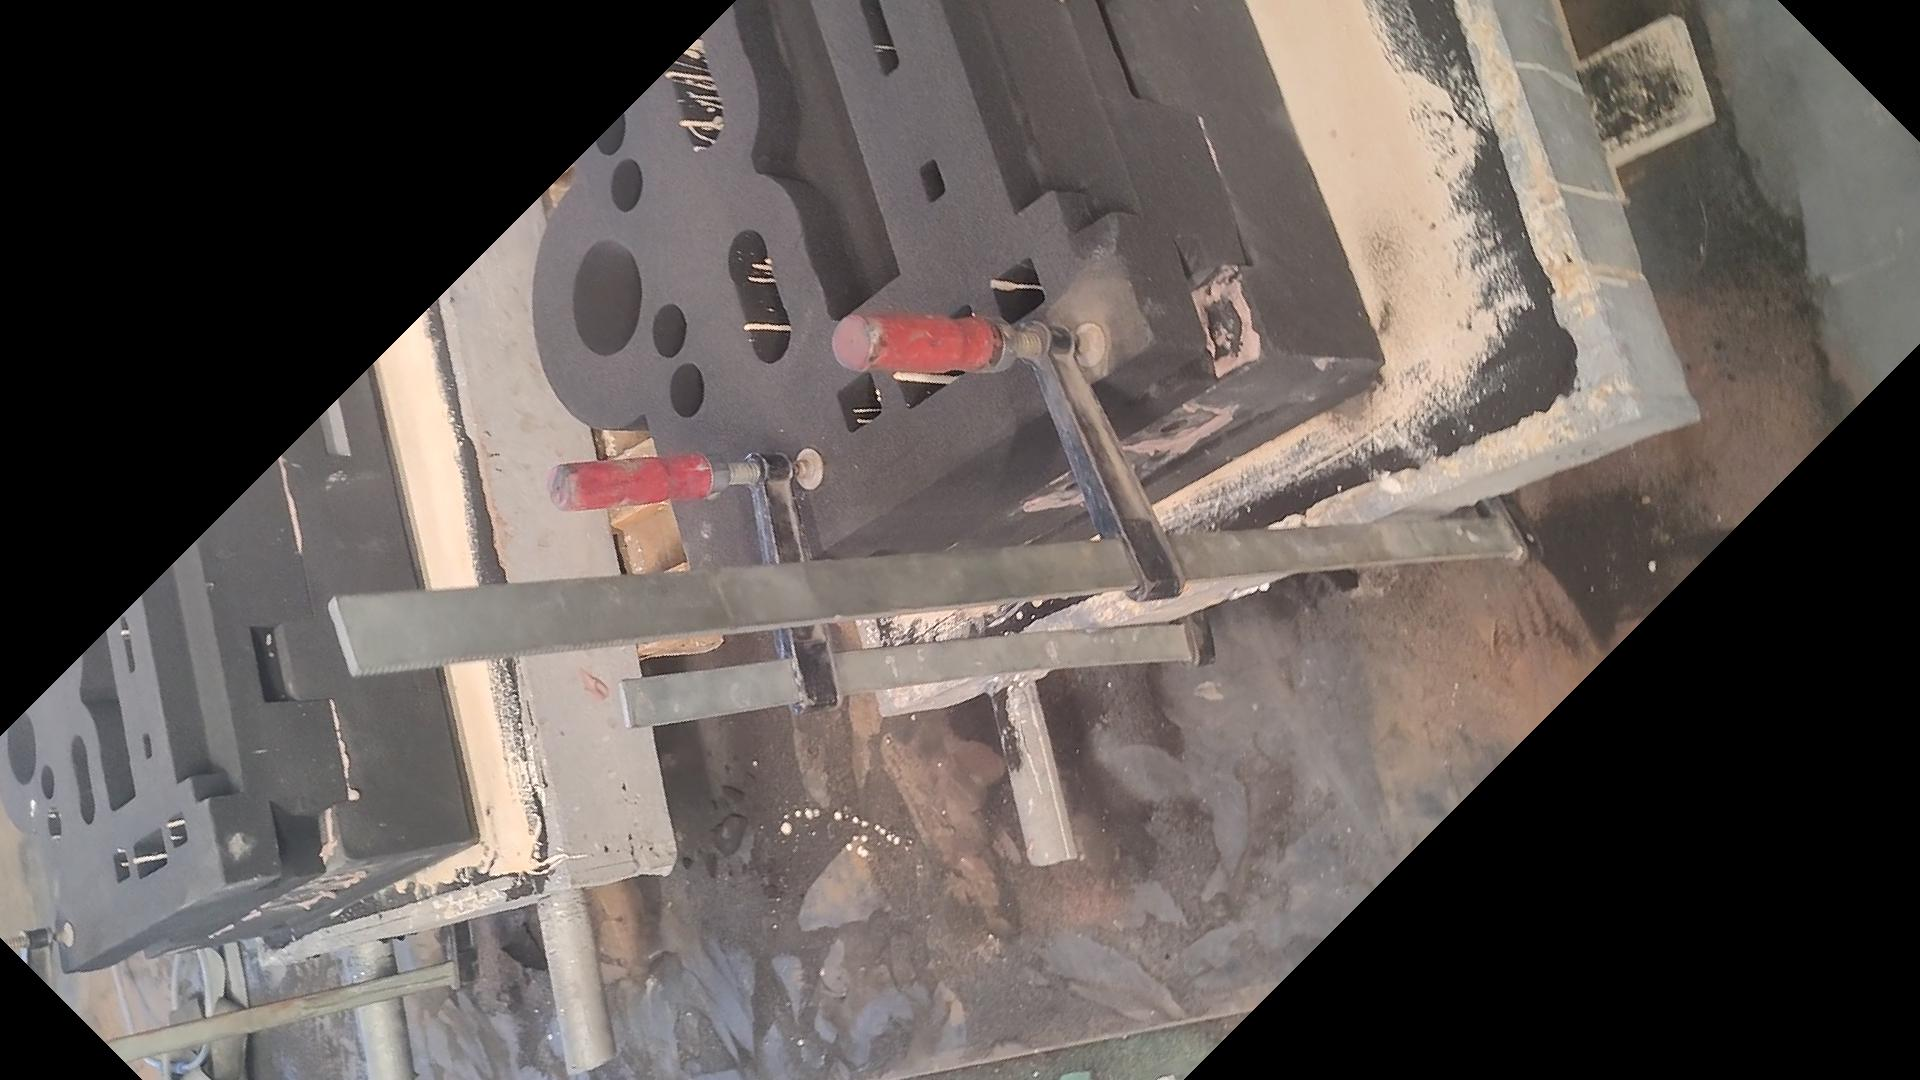pouring hole: (570, 237, 641, 355), (1, 709, 40, 786)
